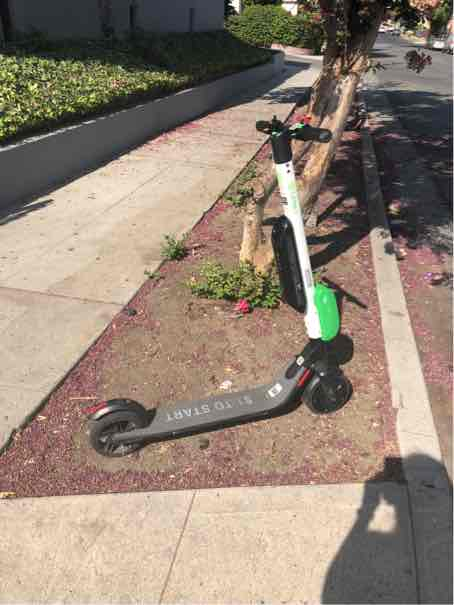scooter: (72, 97, 350, 468)
